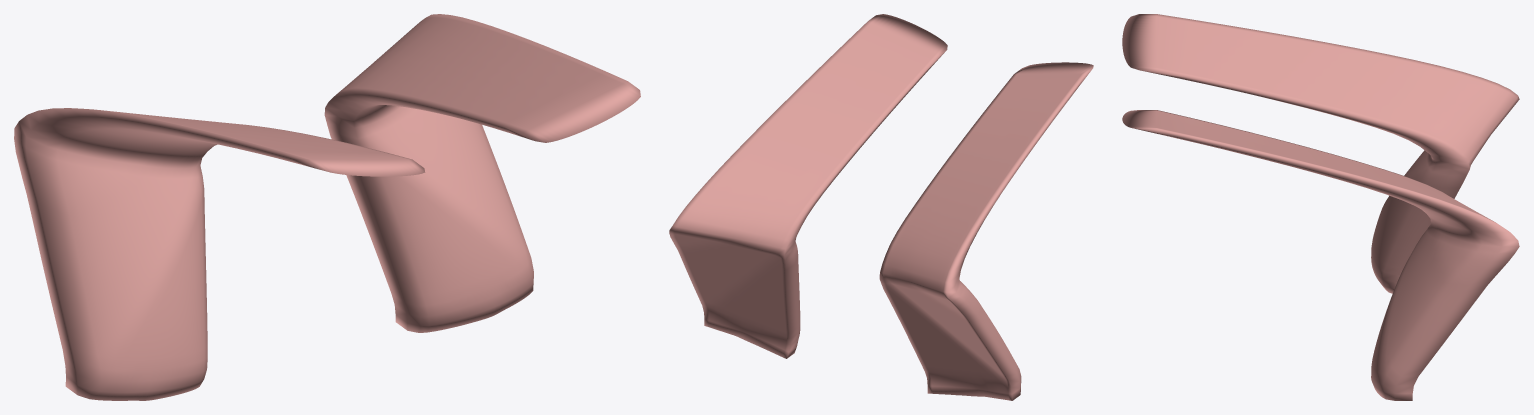
File: depressor_septi_lod1.glb
The picture shows the model from 3 angles, left to right: view 1: azimuth 30°, elevation 25°; view 2: azimuth 150°, elevation 25°; view 3: azimuth 270°, elevation 25°; orthographic projection. The views are drawn at different scales.
Parts seen in each view (by area): view 1: depressor_septi_R_lod1, depressor_septi_L_lod1; view 2: depressor_septi_L_lod1, depressor_septi_R_lod1; view 3: depressor_septi_R_lod1, depressor_septi_L_lod1.
Boxes of the visible parts, bbox=[...] form: depressor_septi_R_lod1: bbox=[14, 108, 425, 400]; depressor_septi_L_lod1: bbox=[324, 14, 640, 332]; depressor_septi_L_lod1: bbox=[669, 14, 947, 358]; depressor_septi_R_lod1: bbox=[879, 62, 1093, 400]; depressor_septi_R_lod1: bbox=[1122, 14, 1519, 293]; depressor_septi_L_lod1: bbox=[1122, 110, 1519, 400].
Bounding box in the file's own units: 0.011 × 0.00821 × 0.0113.
